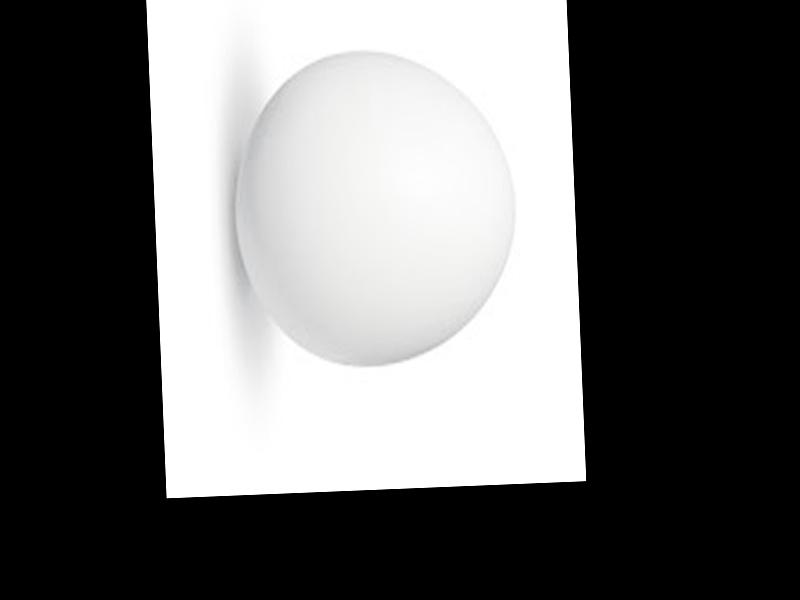Eggs: (230, 46, 523, 366)
